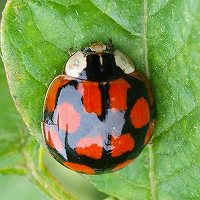Rash: (39, 40, 156, 175)
